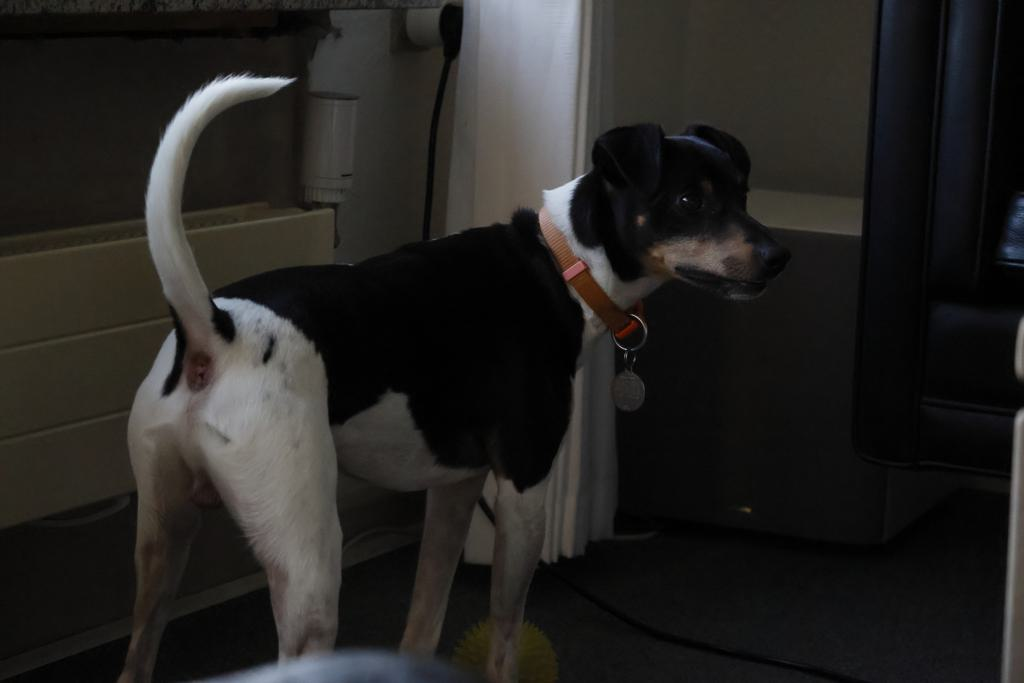Dog: (104, 71, 805, 683)
